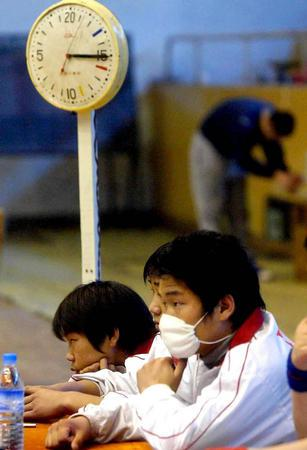NONE: (149, 281, 201, 334), (62, 333, 115, 381)
OK: (155, 287, 225, 357)
